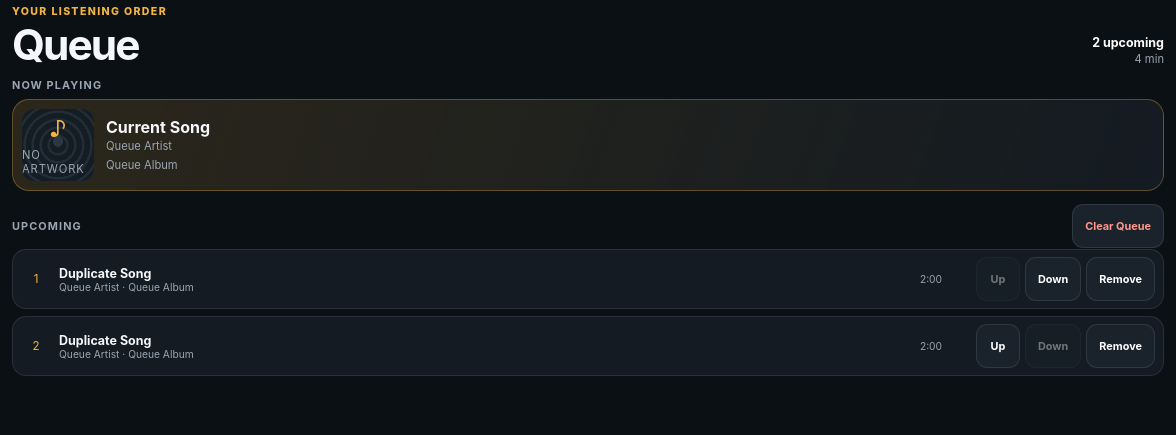
Test: QueueScreen › keeps confirmed state after an API failure and blocks repeated taps
Expected: the text "Current Song" is shown, x1=106 y1=117 x2=210 y2=137
Click the button with aria-label "Remove Duplicate Song from queue".
click(1121, 279)  # box x1=1086 y1=257 x2=1155 y2=301
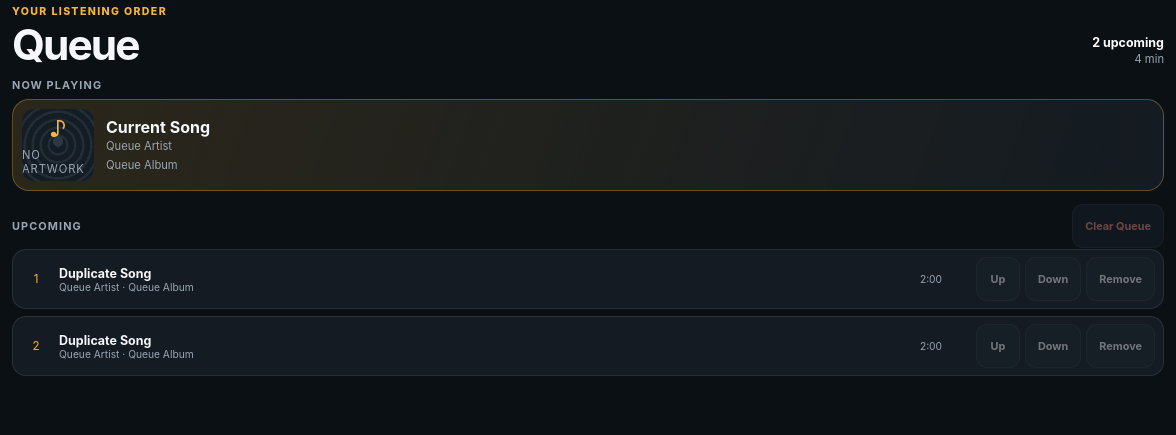
Click the button with aria-label "Remove Duplicate Song from queue".
click(1121, 279)  # box x1=1086 y1=257 x2=1155 y2=301
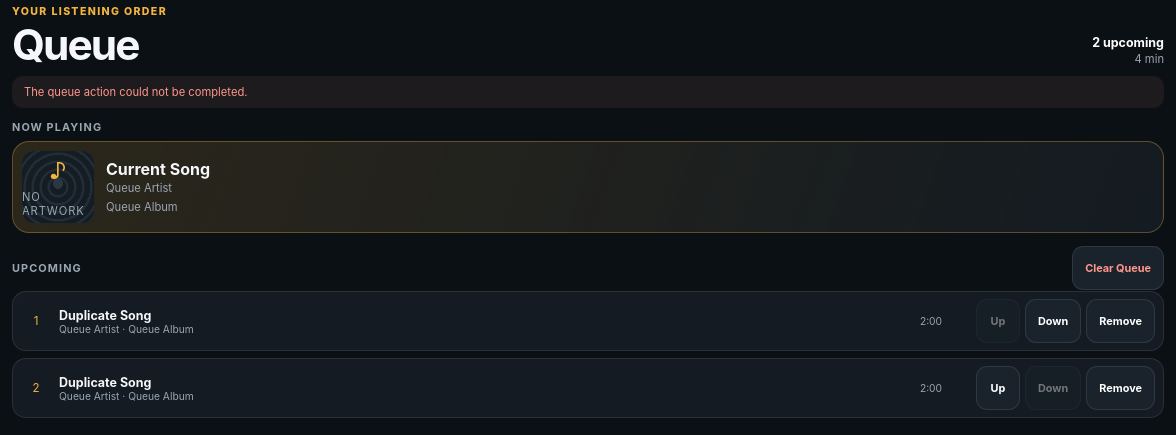
Expected: the text "Duplicate Song" is shown 2 times, x1=59 y1=308 x2=151 y2=322; x1=59 y1=374 x2=151 y2=390
Now the message shows "queue action could not be completed", box x1=24 y1=85 x2=248 y2=99
